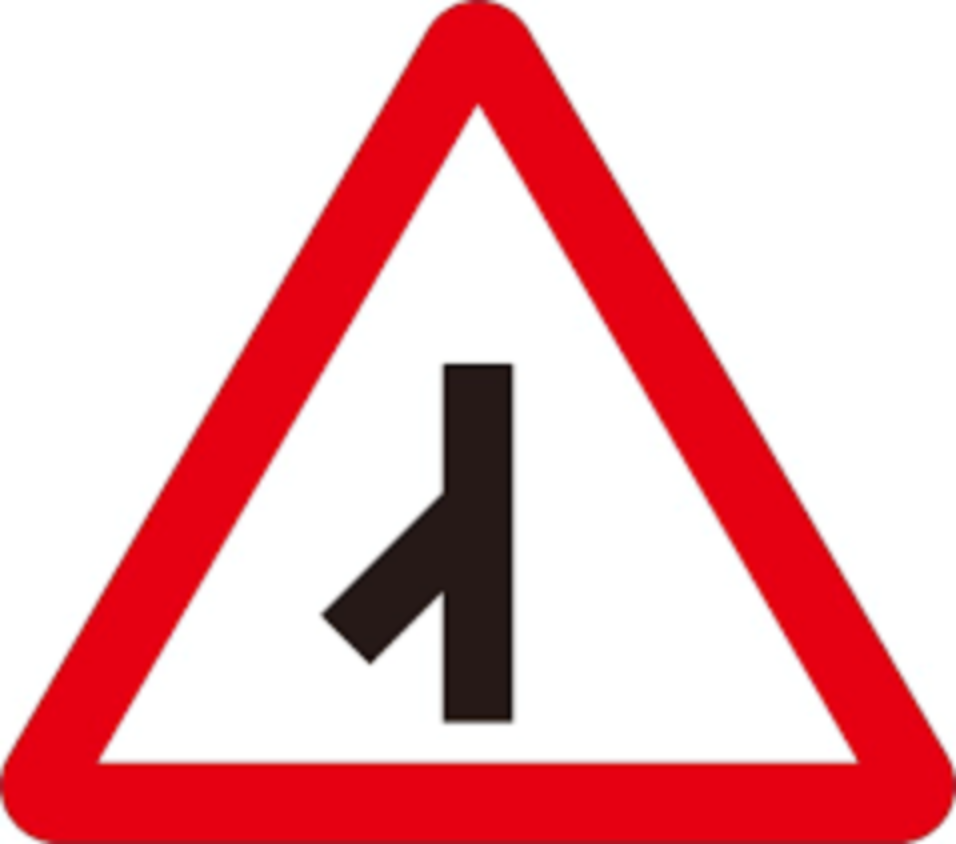Fork_road: (4, 1, 950, 844)
